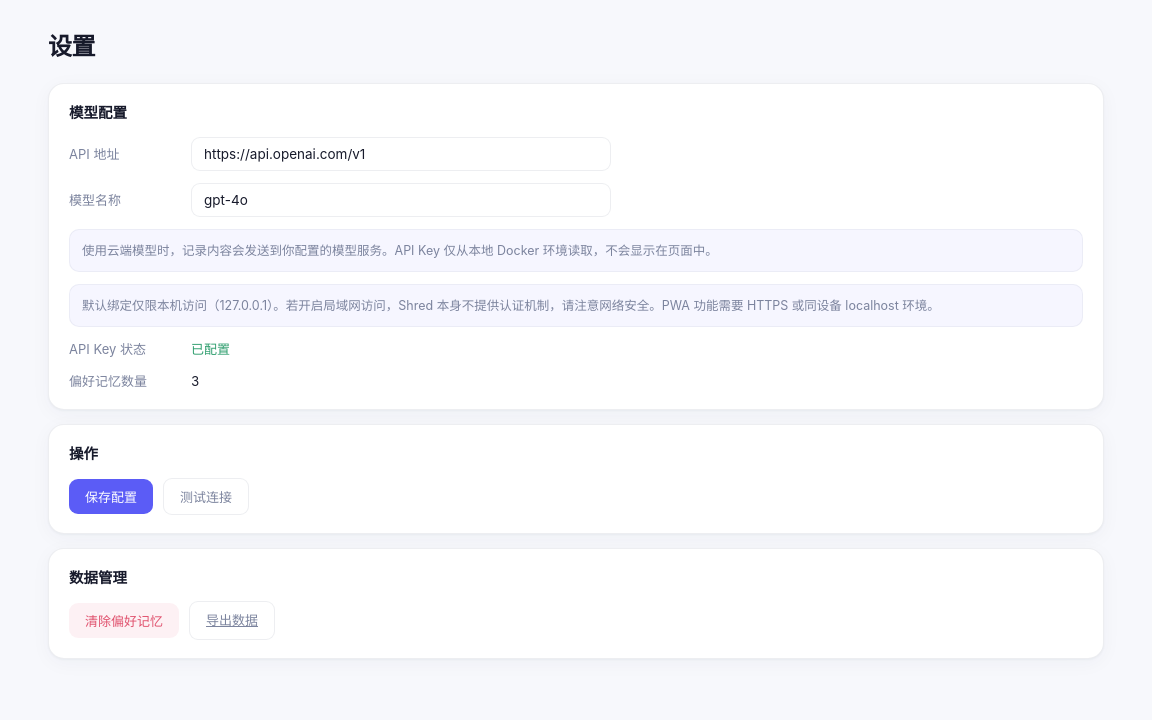
SettingsPage › preserves form values on save error
In the field showing "https://api.openai.com/v1" next to "API 地址": (401, 154) [191,137,611,171], type "invalid-url"
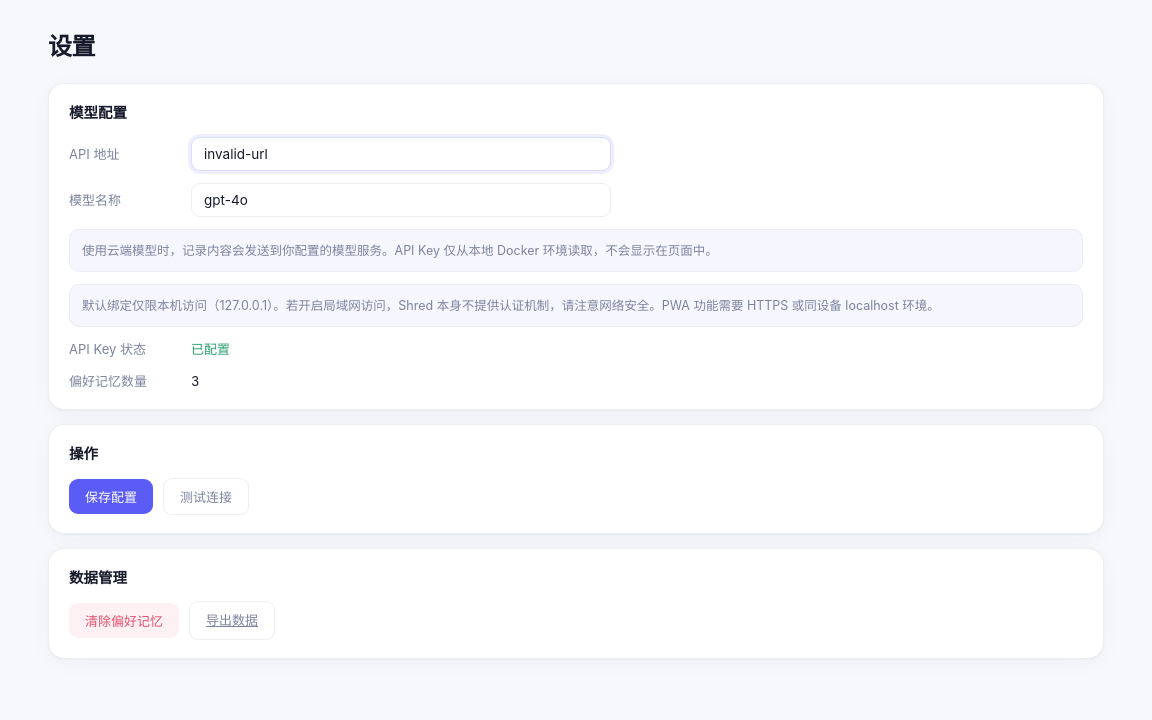
Click the button "保存配置": (111, 496) [69,479,153,514]
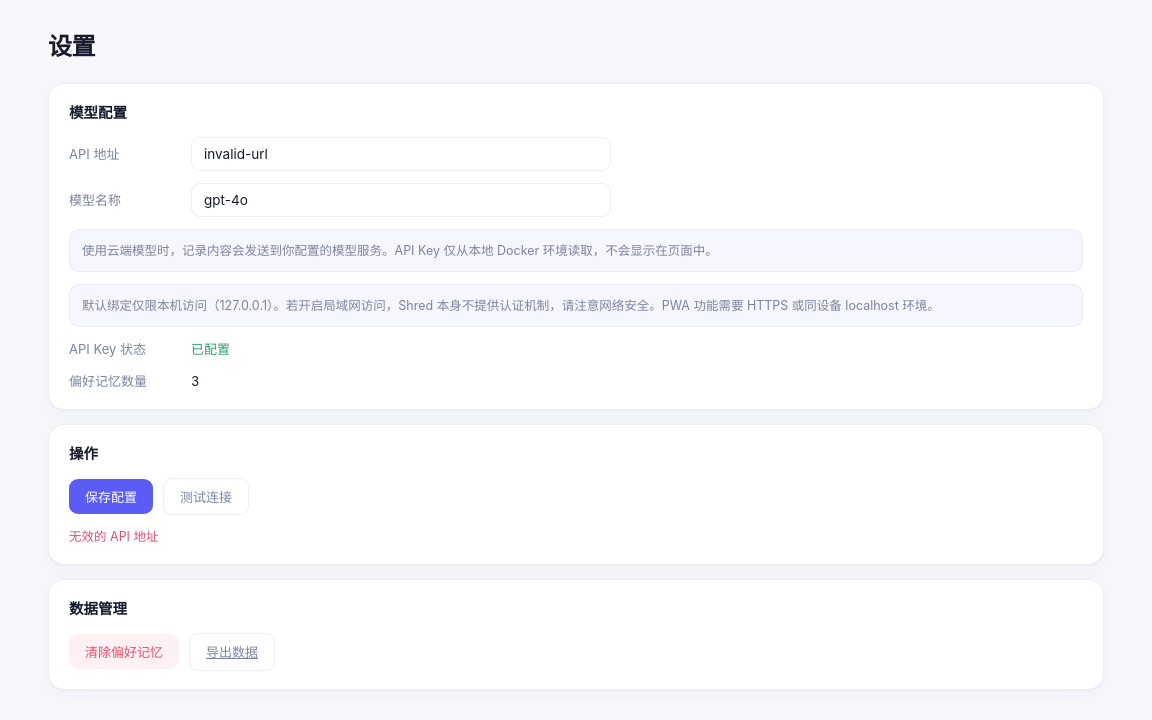
Now the text "无效的 API 地址" is shown, box [69,529,158,544]
